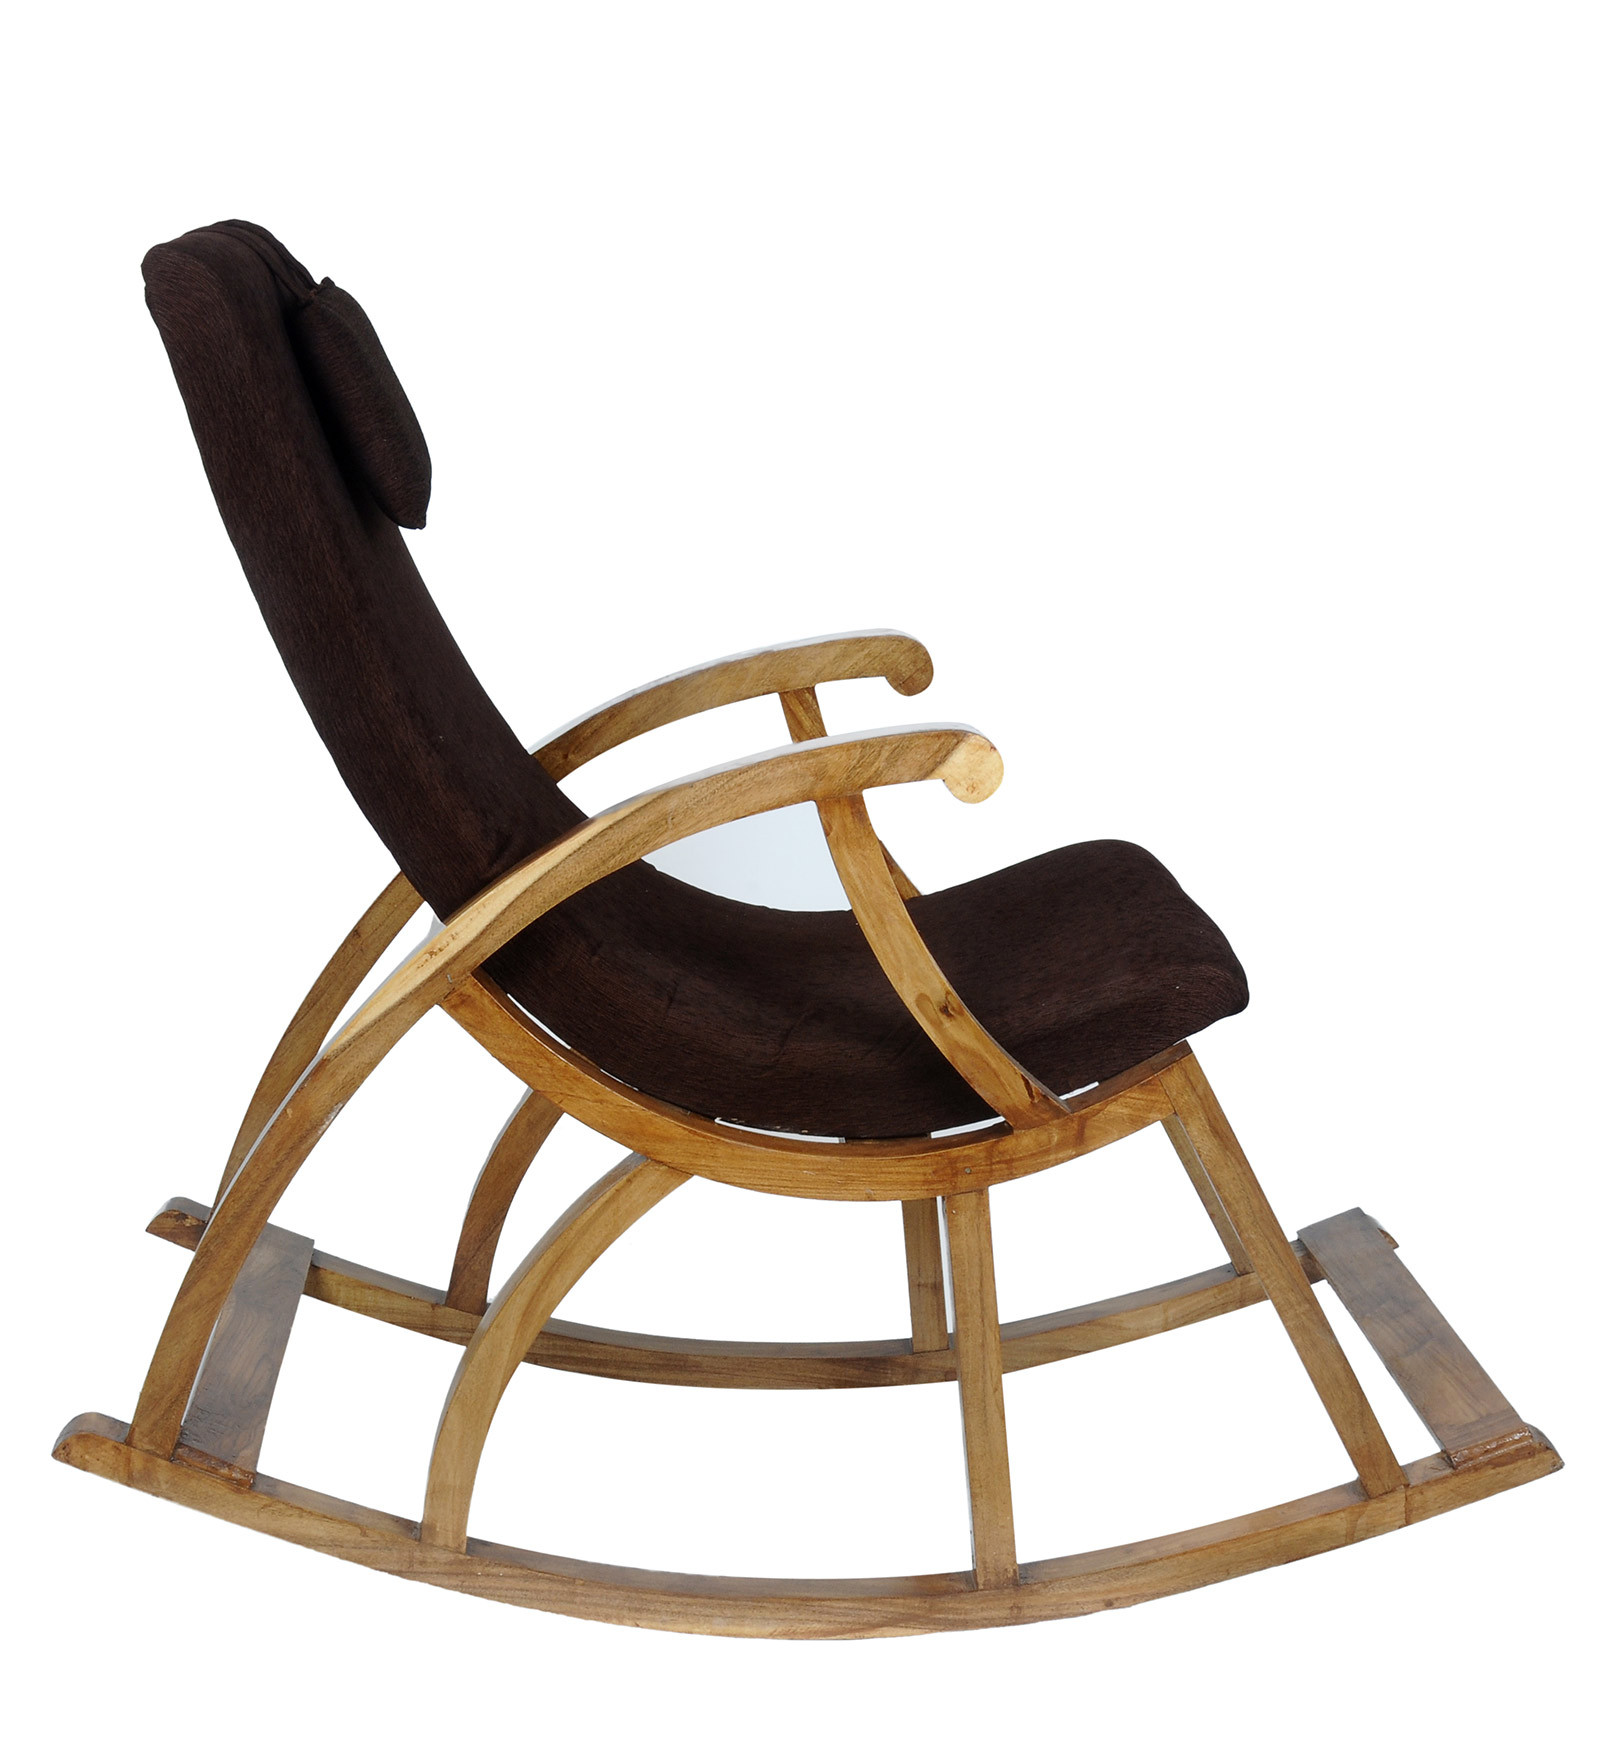Upholstered Teak Wood Rocking Chair in Natural Finish by Furniease: (20, 153, 1600, 1657)
